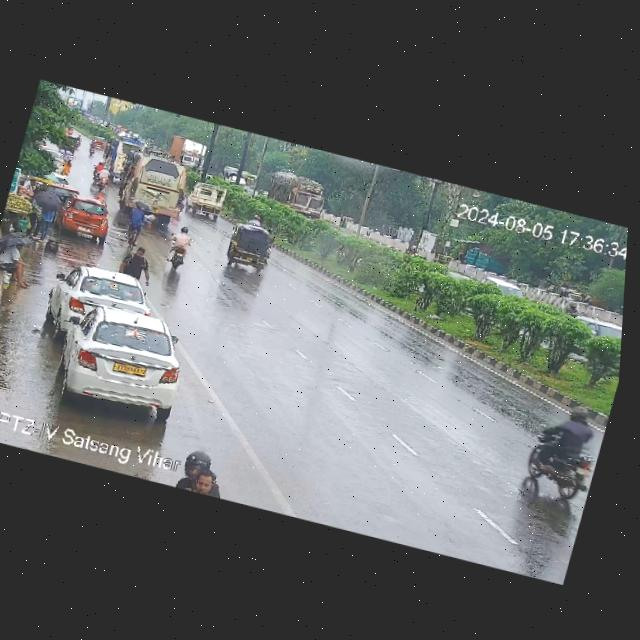bus: (115, 153, 190, 222), (99, 133, 141, 178), (218, 165, 260, 189)
car: (33, 293, 199, 424), (48, 258, 151, 337), (219, 222, 277, 276), (53, 195, 115, 241), (472, 272, 534, 309), (567, 312, 623, 351), (188, 184, 233, 222), (42, 181, 82, 207)
motorcycle: (518, 403, 605, 501), (160, 225, 197, 273), (90, 159, 115, 190), (86, 133, 106, 158), (402, 241, 420, 258), (73, 132, 84, 149)
person: (169, 446, 230, 498), (0, 232, 41, 289), (29, 192, 63, 244), (117, 199, 154, 242), (117, 243, 152, 282), (61, 155, 77, 178)
truck: (261, 169, 335, 222), (164, 131, 212, 174), (217, 172, 255, 195)
